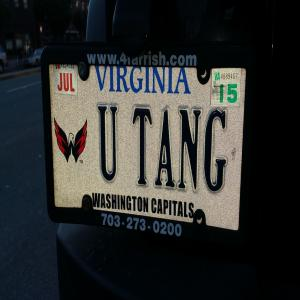Vehicle-registration-plate: (41, 45, 252, 251)
